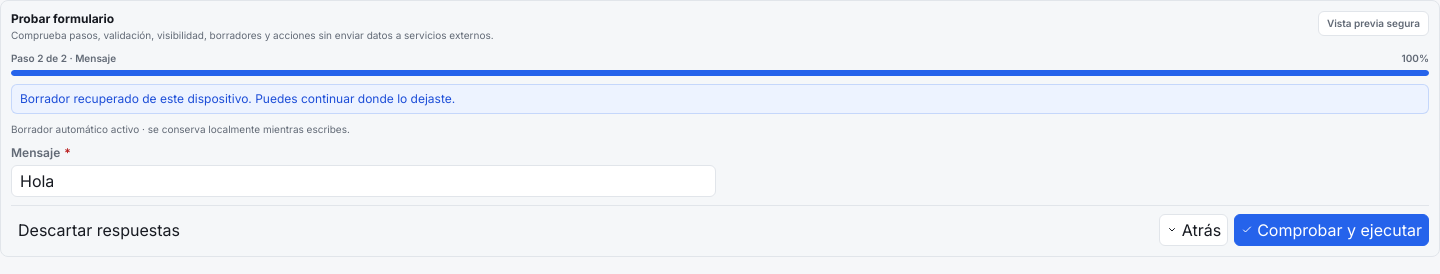
Test case: M11.3/M11.4 FormValidationPreview › recupera el último paso y exige confirmación antes de descartar
Expected: the text "Borrador recuperado de este dispositivo. Puedes continuar donde lo dejaste." is shown, [11,84,1429,114]
Expected: the text "Paso 2 de 2 · Mensaje" is shown, [11,51,116,66]
Click the button "Descartar respuestas": x=99, y=230 [11,214,187,246]
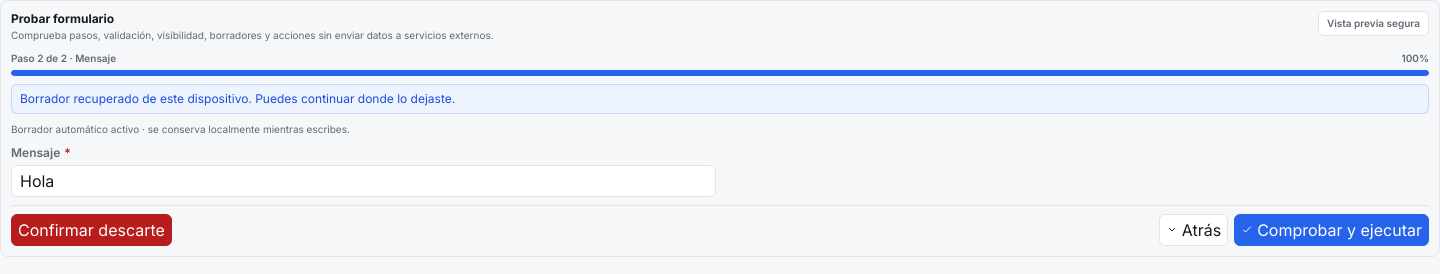
Click the button "Confirmar descarte": x=91, y=230 [11,214,172,246]
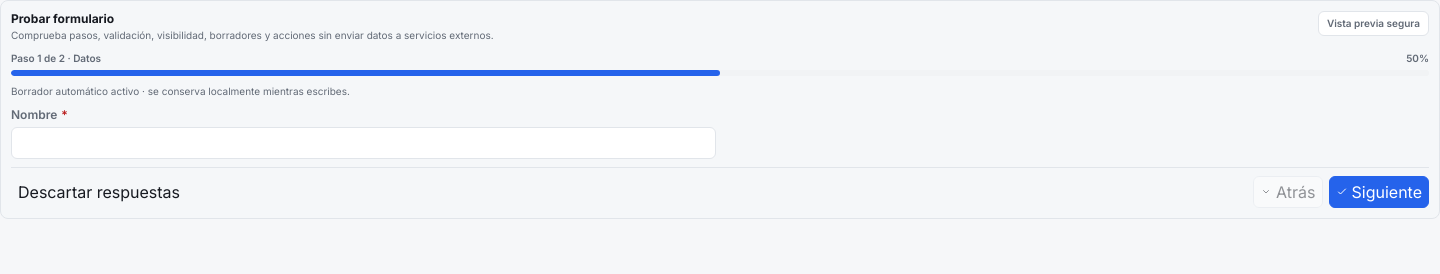
Expected: the text "Paso 1 de 2 · Datos" is shown, [11,51,101,66]
Expected: the field labelled "Nombre*" is empty, [11,127,716,159]
